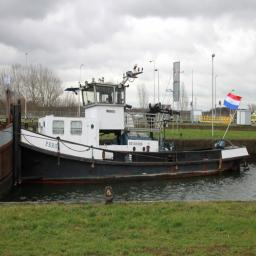tugboat: (6, 63, 252, 193)
